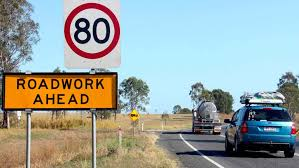sp80: (64, 3, 125, 61)
